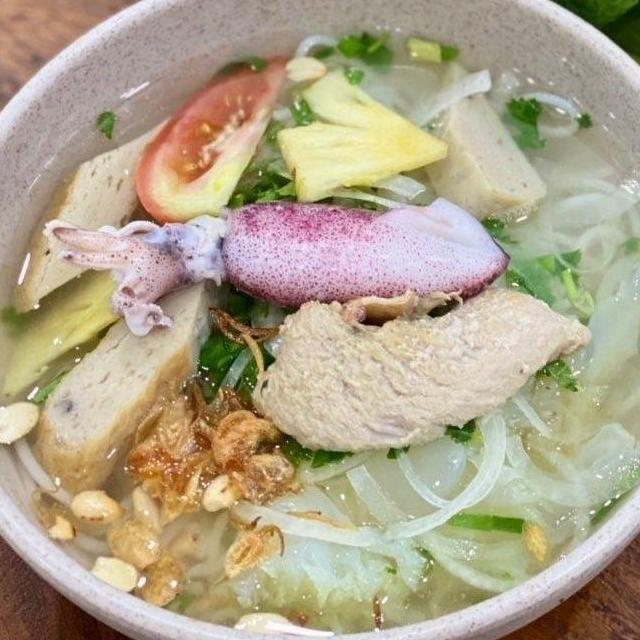bun: (4, 430, 235, 637)
muc: (38, 188, 521, 344)
